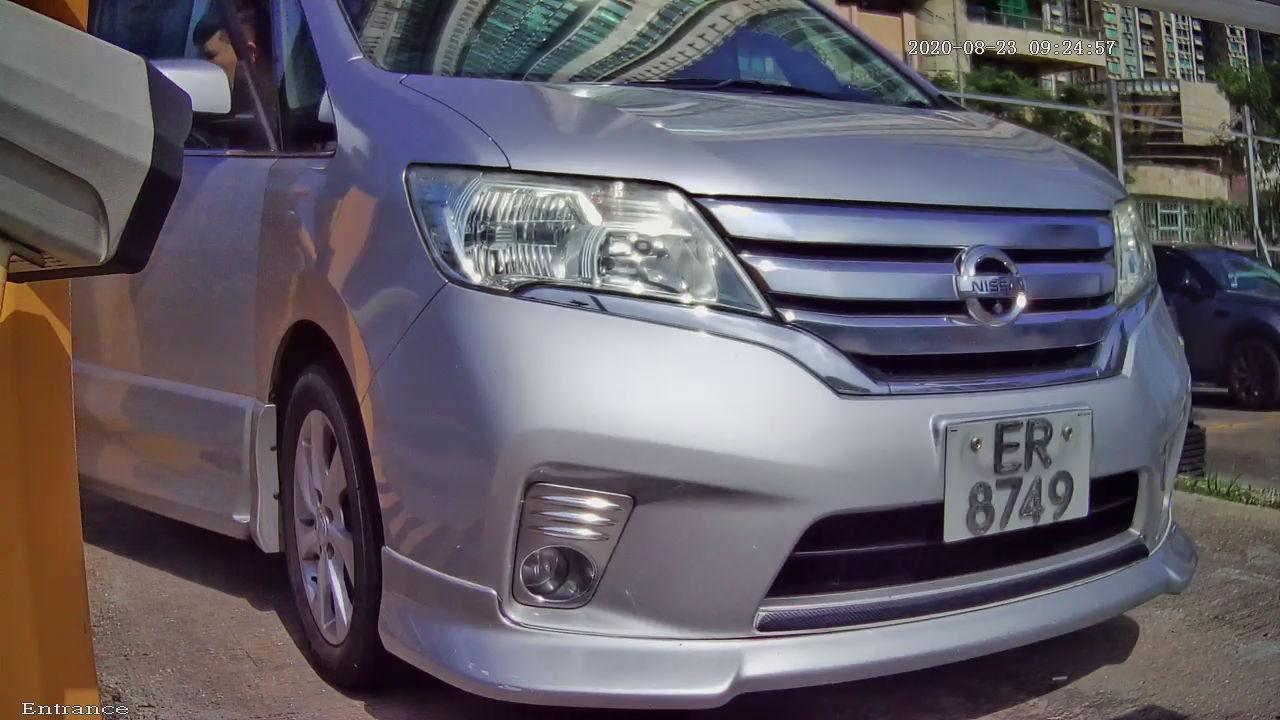License Plate: (926, 389, 1109, 557)
